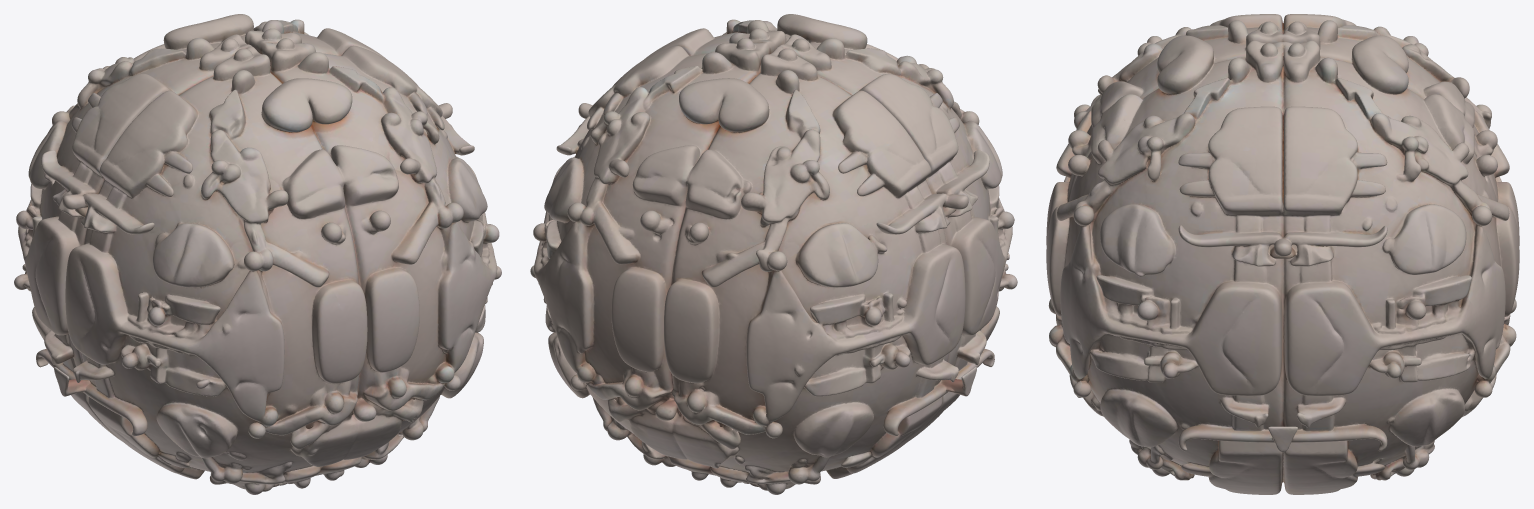
Rendered from detailed_realistic_model_solid_15.glb.
3 views of the same model, side by side, from view 1: azimuth 30°, elevation 25°; view 2: azimuth 150°, elevation 25°; view 3: azimuth 270°, elevation 25° (orthographic). The views are drawn at different scales.
Parts seen in each view (by area): view 1: tripo_node_4b6eea5f-5ffe-437c-ac6c-0e69fdaf17fc; view 2: tripo_node_4b6eea5f-5ffe-437c-ac6c-0e69fdaf17fc; view 3: tripo_node_4b6eea5f-5ffe-437c-ac6c-0e69fdaf17fc.
Boxes of the visible parts, box(x1,y1,x2,y2) form: tripo_node_4b6eea5f-5ffe-437c-ac6c-0e69fdaf17fc: box(14, 14, 501, 494); tripo_node_4b6eea5f-5ffe-437c-ac6c-0e69fdaf17fc: box(530, 14, 1017, 494); tripo_node_4b6eea5f-5ffe-437c-ac6c-0e69fdaf17fc: box(1046, 14, 1519, 494).
Size of the model in its own units: 0.9759 by 0.9999 by 0.9785.
Materials: 1 (1 with a texture image).
